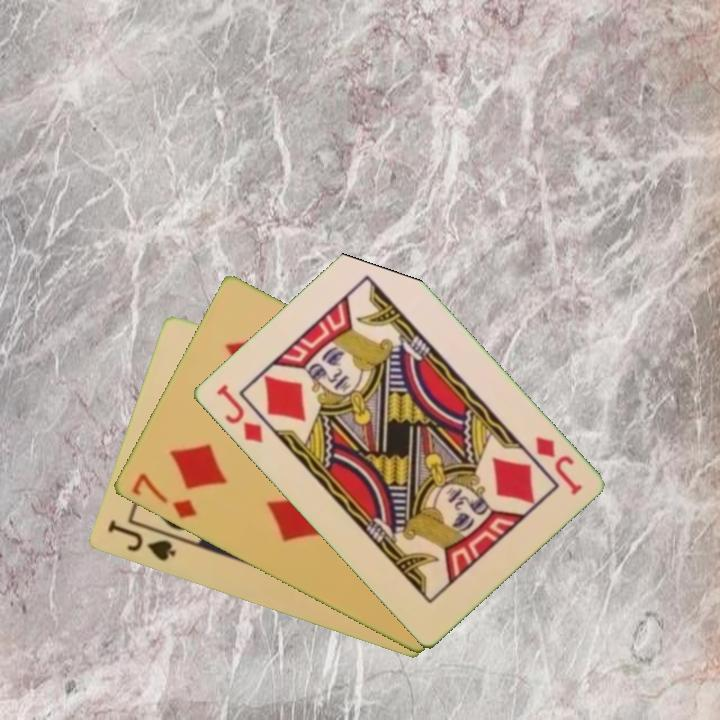7d: (127, 469, 199, 522)
Jd: (212, 380, 266, 447), (531, 433, 585, 498)
Js: (103, 517, 179, 565)
